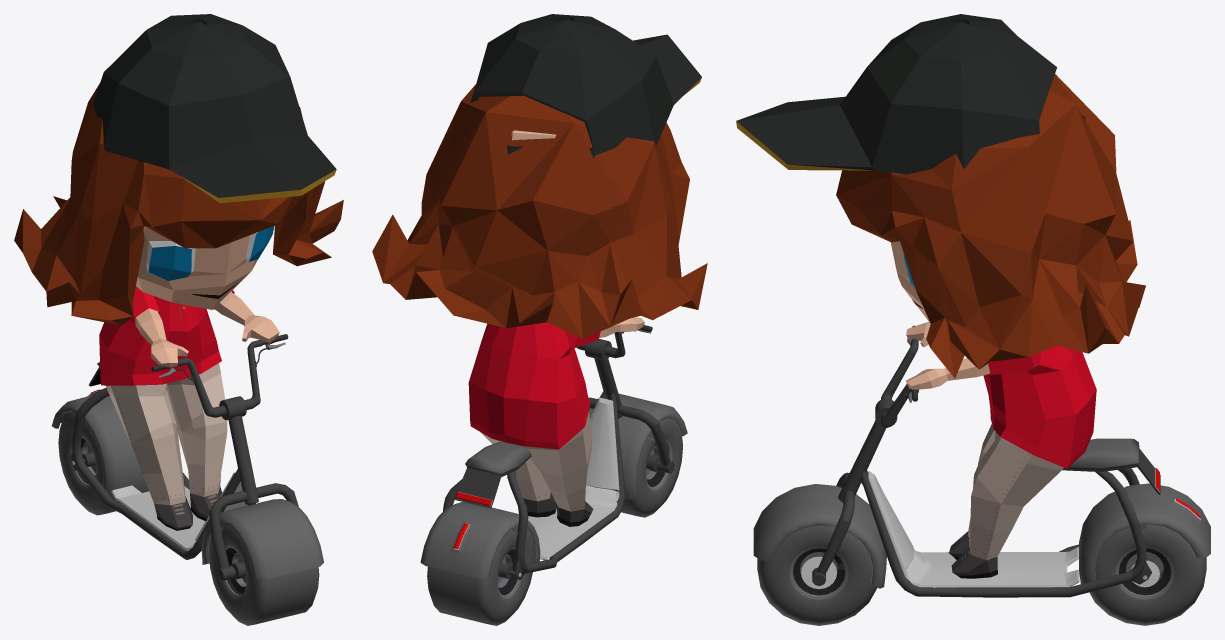
File: courieronscooter 1.fbx
3 views of the same model, side by side, from view 1: azimuth 30°, elevation 25°; view 2: azimuth 150°, elevation 25°; view 3: azimuth 270°, elevation 25° (orthographic). The views are drawn at different scales.
Visible parts, largest first — view 1: baseball_cap, hair06, polySurface20.001, clothing, body; view 2: hair06, polySurface20.001, baseball_cap, clothing, body; view 3: hair06, polySurface20.001, baseball_cap, clothing, body.
Boxes of the visible parts, left/top/right/bottom form: baseball_cap: left=93, top=14, right=336, bottom=203; hair06: left=14, top=83, right=343, bottom=325; polySurface20.001: left=51, top=334, right=323, bottom=625; clothing: left=99, top=286, right=234, bottom=530; body: left=135, top=225, right=279, bottom=367; hair06: left=372, top=84, right=707, bottom=338; polySurface20.001: left=420, top=325, right=687, bottom=625; baseball_cap: left=470, top=14, right=701, bottom=158; clothing: left=468, top=322, right=600, bottom=526; body: left=511, top=130, right=644, bottom=337; hair06: left=836, top=74, right=1145, bottom=378; polySurface20.001: left=753, top=325, right=1210, bottom=625; baseball_cap: left=736, top=14, right=1085, bottom=174; clothing: left=949, top=345, right=1096, bottom=578; body: left=890, top=241, right=990, bottom=389.
Bounding box in the file's own units: 110 × 198 × 145.
